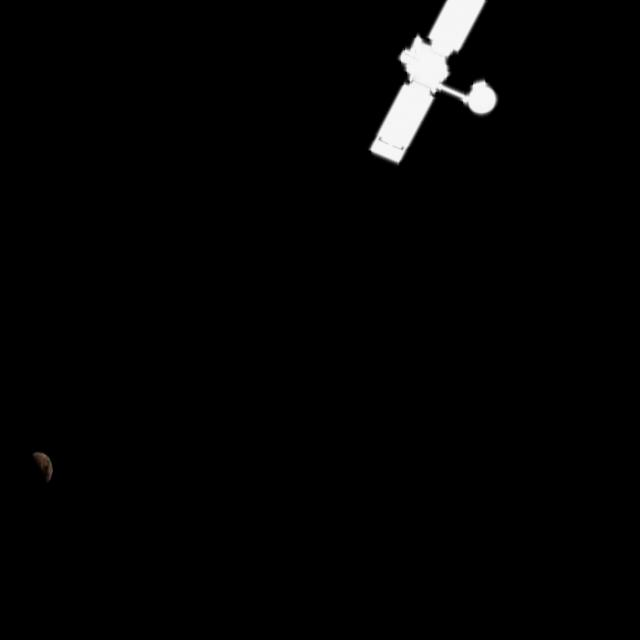satellite: (350, 0, 506, 170)
